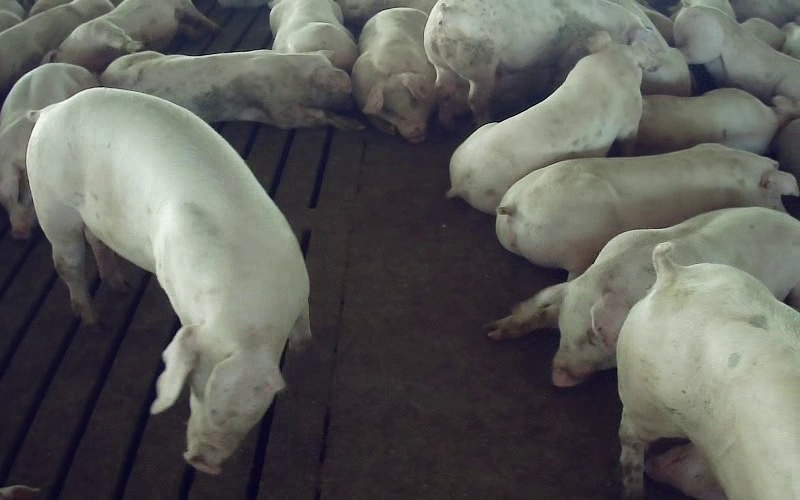pig: (27, 88, 310, 473), (617, 243, 799, 499), (496, 144, 797, 277), (100, 50, 362, 129), (0, 63, 96, 238), (45, 0, 217, 73), (674, 6, 799, 102), (352, 8, 435, 142), (635, 88, 778, 154), (270, 0, 357, 71)
